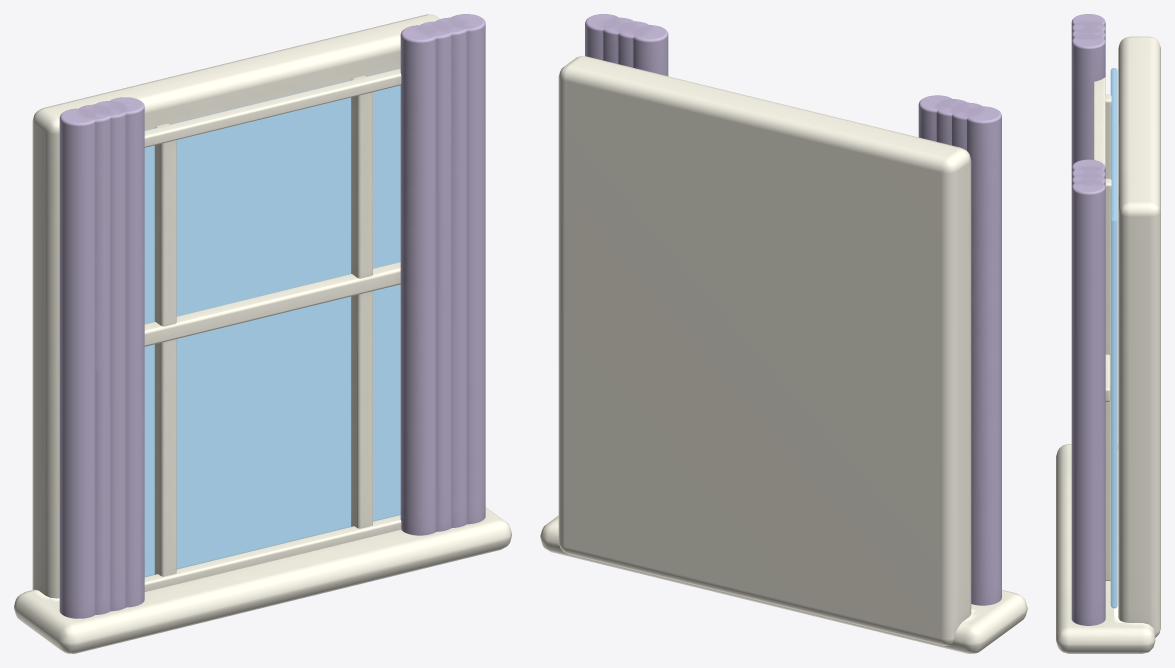
The model's file is window11C.glb.
3 renders of one model, left to right at view 1: azimuth 30°, elevation 25°; view 2: azimuth 150°, elevation 25°; view 3: azimuth 270°, elevation 25°, orthographic. The views are drawn at different scales.
Parts seen in each view (by area): view 1: Window glass, Window frame, Sill, Curtain fold, Curtain fold.007, Curtain fold.004, Curtain fold.003, Window muntin, Window muntin.001, Curtain fold.002, Curtain fold.005, Curtain fold.001 (+4 smaller); view 2: Window frame, Curtain fold, Sill, Curtain fold.007, Curtain fold.004, Curtain fold.003, Curtain fold.001, Curtain fold.002, Curtain fold.006, Curtain fold.005; view 3: Window frame, Curtain fold.004, Sill, Window glass, Curtain fold.003, Window muntin.001, Opening sash rail.001, Window muntin, Curtain fold.006, Curtain fold.007, Curtain fold, Curtain fold.001 (+3 smaller).
Boxes of the visible parts, box(x1,y1,x2,y2) form: Window glass: box(144, 68, 400, 576); Window frame: box(32, 14, 440, 598); Sill: box(14, 507, 511, 653); Curtain fold: box(59, 108, 95, 618); Curtain fold.007: box(400, 25, 436, 535); Curtain fold.004: box(449, 14, 485, 524); Curtain fold.003: box(110, 97, 144, 607); Window muntin: box(154, 123, 176, 576); Window muntin.001: box(351, 75, 372, 528); Curtain fold.002: box(93, 101, 126, 611); Curtain fold.005: box(434, 17, 467, 527); Curtain fold.001: box(78, 104, 110, 614); Window frame: box(558, 56, 971, 645); Curtain fold: box(966, 106, 1001, 605); Sill: box(540, 515, 1027, 653); Curtain fold.007: box(633, 25, 668, 75); Curtain fold.004: box(585, 14, 619, 60); Curtain fold.003: box(918, 95, 953, 141); Curtain fold.001: box(951, 102, 983, 150); Curtain fold.002: box(936, 99, 968, 145); Curtain fold.006: box(618, 21, 650, 67); Curtain fold.005: box(603, 17, 635, 63); Window frame: box(1118, 36, 1160, 637); Curtain fold.004: box(1071, 179, 1105, 625); Sill: box(1056, 444, 1155, 653); Window glass: box(1110, 68, 1117, 608); Curtain fold.003: box(1071, 34, 1105, 166); Window muntin.001: box(1105, 178, 1111, 580); Opening sash rail.001: box(1093, 77, 1105, 166); Window muntin: box(1105, 94, 1111, 178); Curtain fold.006: box(1071, 166, 1105, 180); Curtain fold.007: box(1071, 159, 1105, 173); Curtain fold: box(1071, 14, 1105, 27); Curtain fold.001: box(1071, 20, 1105, 34).
Size of the model in its own units: 1.61 by 1.78 by 0.37.
